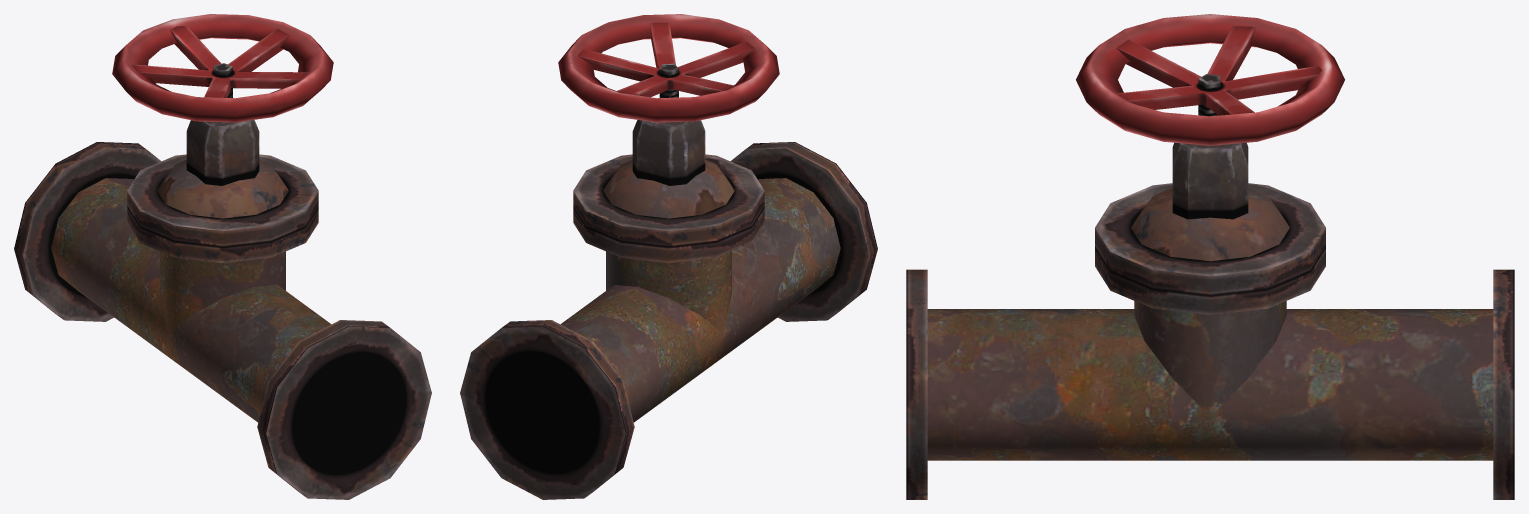
File: pipe02_valve01.FBX
3 renders of one model, left to right at view 1: azimuth 30°, elevation 25°; view 2: azimuth 150°, elevation 25°; view 3: azimuth 270°, elevation 25°, orthographic. The views are drawn at different scales.
Visible parts, largest first — view 1: pipe02_valve01, pipe02_valve01_wheel; view 2: pipe02_valve01, pipe02_valve01_wheel; view 3: pipe02_valve01, pipe02_valve01_wheel.
Part boxes in pixels (x1,y1,x2,y2): pipe02_valve01: (14, 120, 431, 499); pipe02_valve01_wheel: (112, 14, 333, 122); pipe02_valve01: (460, 120, 877, 499); pipe02_valve01_wheel: (558, 14, 779, 122); pipe02_valve01: (906, 142, 1514, 499); pipe02_valve01_wheel: (1076, 14, 1344, 145).
Size of the model in its own units: 44.29 by 76.97 by 100.
